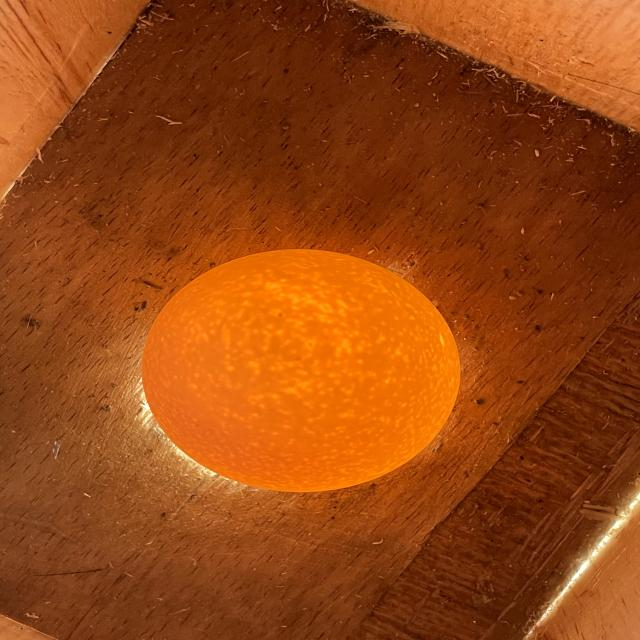infertile: (142, 249, 460, 491)
